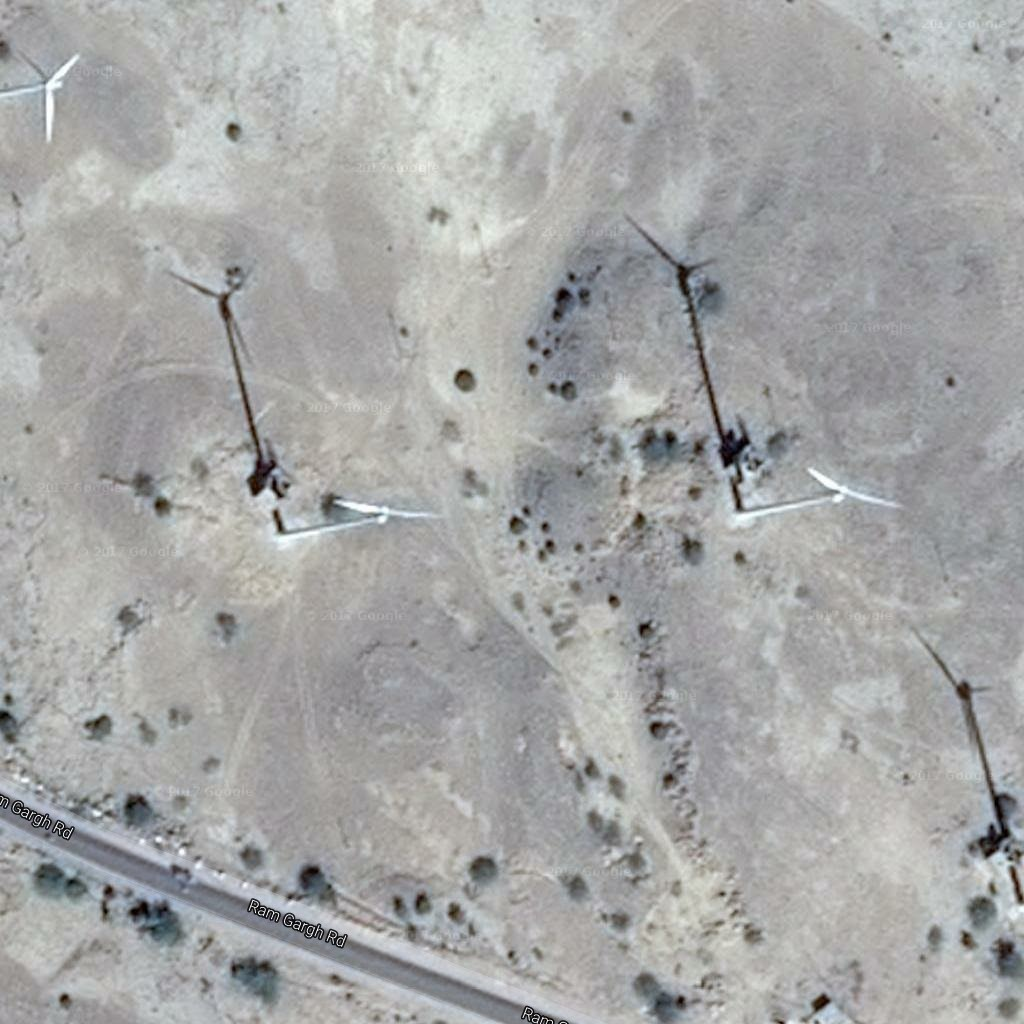Windmill: (621, 213, 761, 498)
